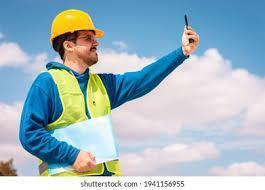helmet: (50, 9, 105, 42)
